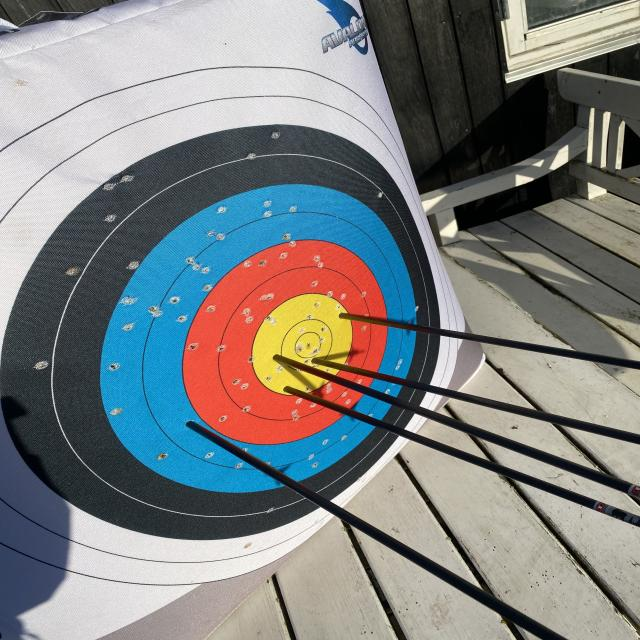Arrow_Blue: (167, 411, 219, 441)
Arrow_Yellow: (328, 302, 358, 327), (300, 350, 334, 372), (260, 344, 286, 368), (278, 383, 307, 400)
